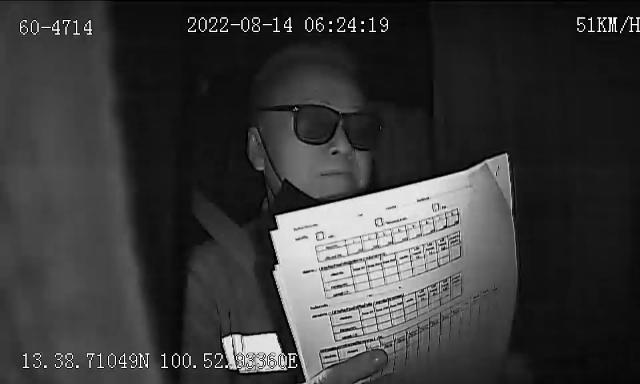Seatbelt: (192, 189, 260, 285)
